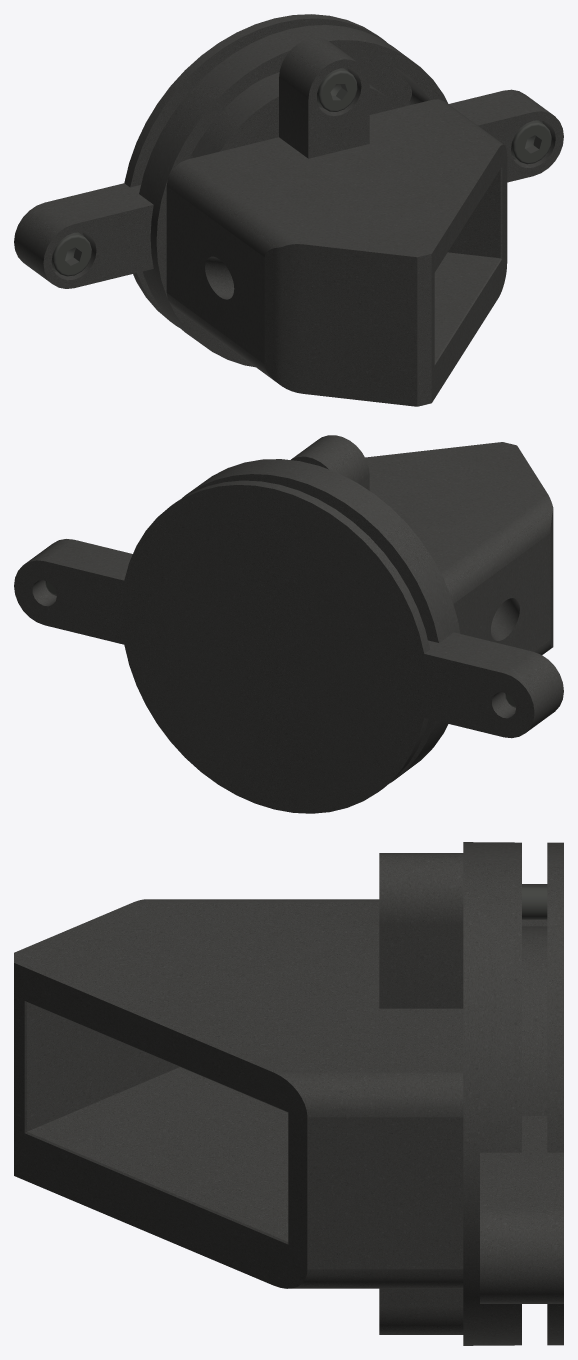
The model's file is sc_mount_visual.glb.
3 renders of one model, top to bottom at view 1: azimuth 30°, elevation 25°; view 2: azimuth 150°, elevation 25°; view 3: azimuth 270°, elevation 25°, orthographic. The views are drawn at different scales.
Visible parts, largest first — view 1: PLUG FIXTURE BASE MOUNT.002, PLUG FIXTURE BASE MOUNT.008, ISO 4762 - M2 x 8.002, PLUG FIXTURE BASE MOUNT.007; view 2: PLUG FIXTURE BASE MOUNT.002; view 3: PLUG FIXTURE BASE MOUNT.002, ISO 4762 - M2 x 8.002.
Part boxes in pixels (x1,y1,x2,y2): PLUG FIXTURE BASE MOUNT.002: (14,14,563,406); PLUG FIXTURE BASE MOUNT.008: (511,120,551,164); ISO 4762 - M2 x 8.002: (317,68,357,111); PLUG FIXTURE BASE MOUNT.007: (51,232,91,276); PLUG FIXTURE BASE MOUNT.002: (14,435,563,813); PLUG FIXTURE BASE MOUNT.002: (14,842,563,1345); ISO 4762 - M2 x 8.002: (522,886,547,919).
Bounding box in the file's own units: 0.051 × 0.031 × 0.0327.
2 materials, 1 textured.
